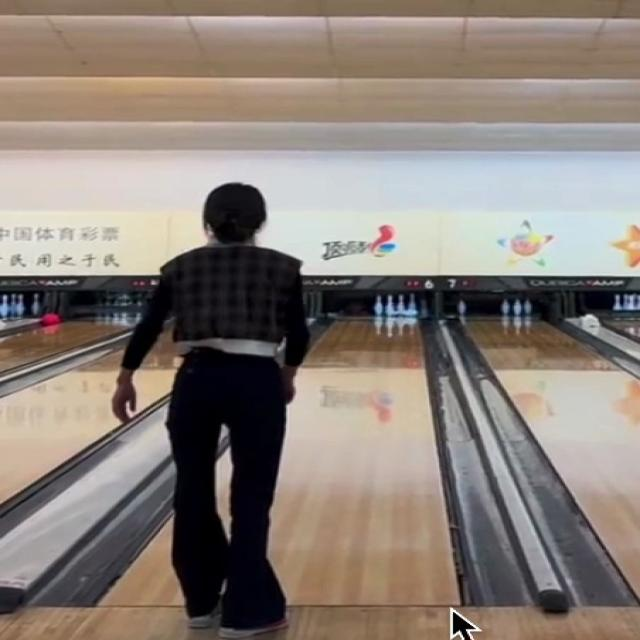alley: (270, 317, 456, 605), (101, 524, 180, 605)
bottle: (375, 293, 419, 317)
